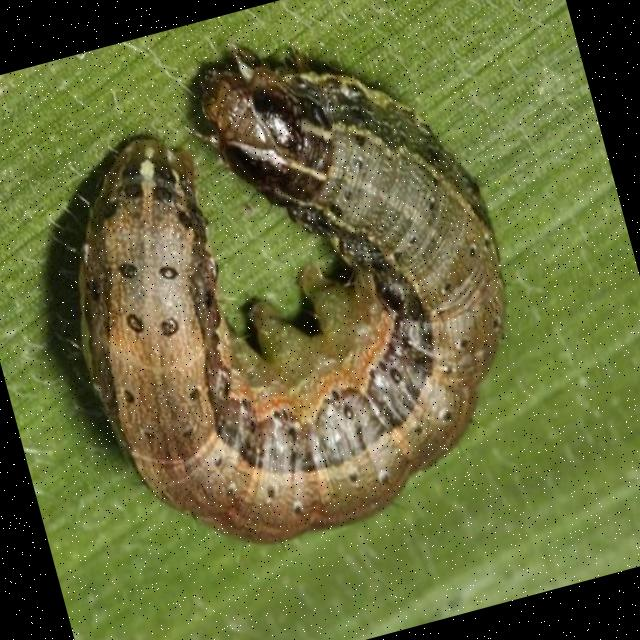worm: (15, 1, 563, 585)
